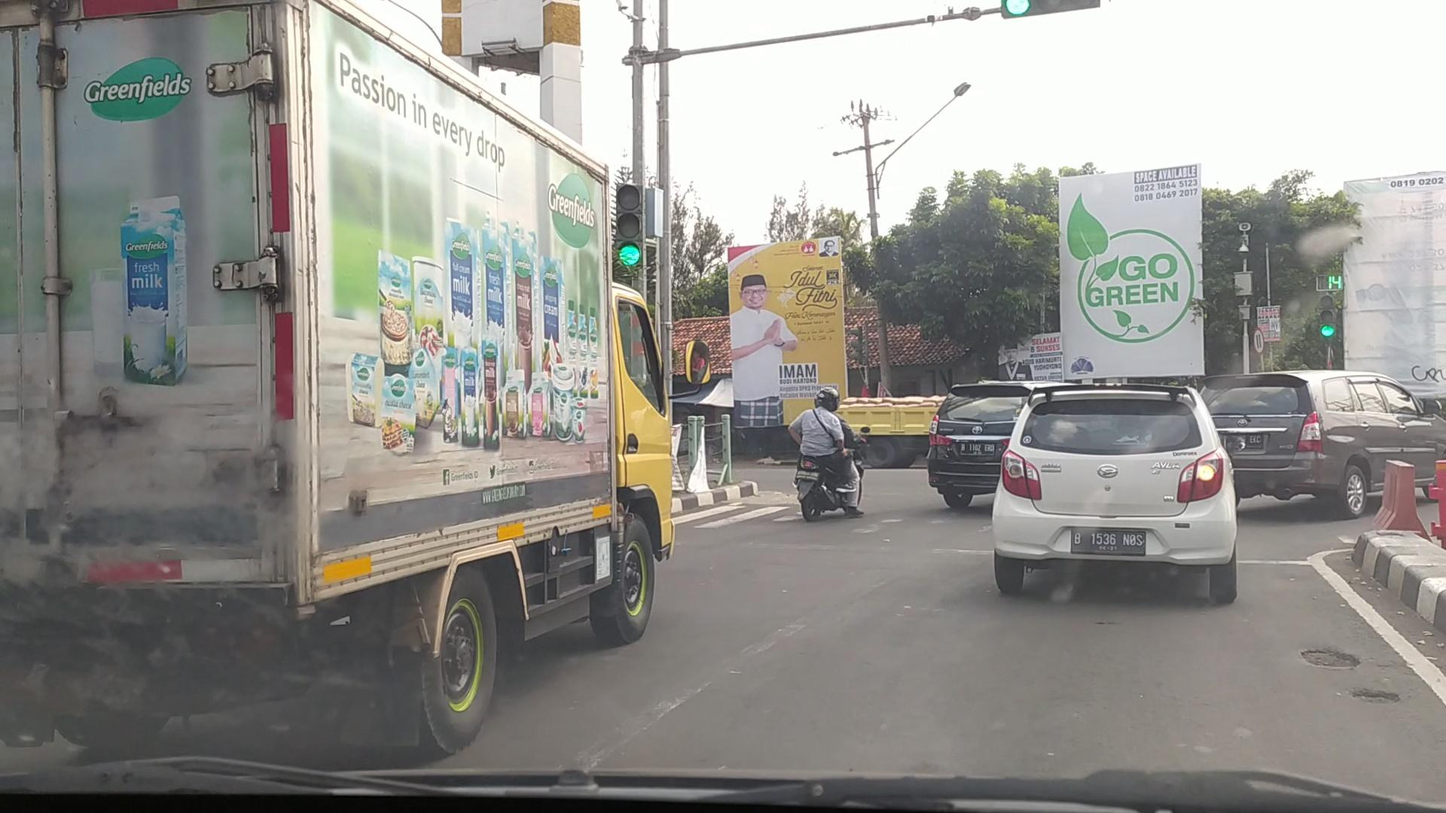pothole: (1297, 648, 1361, 669), (1348, 686, 1403, 706)
